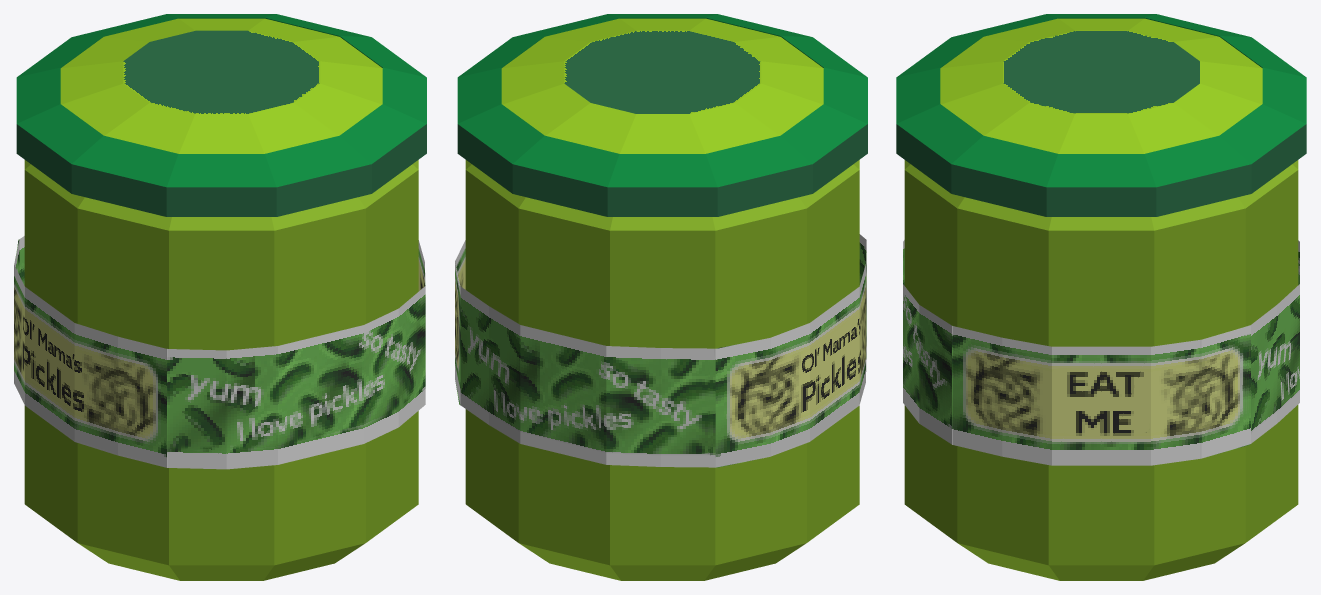
3 renders of one model, left to right at view 1: azimuth 30°, elevation 25°; view 2: azimuth 150°, elevation 25°; view 3: azimuth 270°, elevation 25°, orthographic.
Parts seen in each view (by area): view 1: Jar Body, Picklejar Label, circle, Jar Lid; view 2: Jar Body, Picklejar Label, circle, Jar Lid; view 3: Jar Body, Picklejar Label, circle, Jar Lid.
Part boxes in pixels (x1,y1,x2,y2): Jar Body: [24, 160, 418, 580]; Picklejar Label: [14, 236, 425, 469]; circle: [60, 18, 382, 153]; Jar Lid: [16, 14, 426, 216]; Jar Body: [465, 160, 859, 580]; Picklejar Label: [455, 234, 866, 467]; circle: [501, 18, 823, 153]; Jar Lid: [457, 14, 867, 216]; Jar Body: [904, 160, 1298, 580]; Picklejar Label: [903, 240, 1299, 465]; circle: [940, 18, 1262, 153]; Jar Lid: [896, 14, 1306, 216].
Size of what is drawn, in the model's own units: 1.56 by 1.86 by 1.56.
6 materials, 6 textured.
